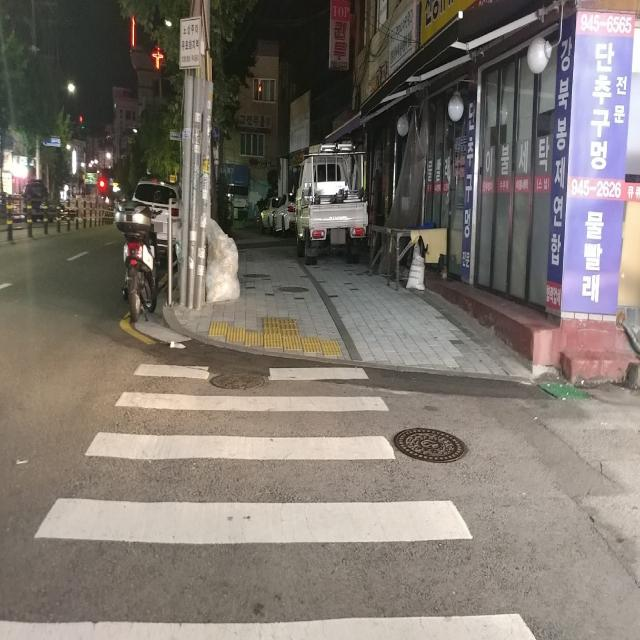횡단보도: (0, 362, 537, 640)
